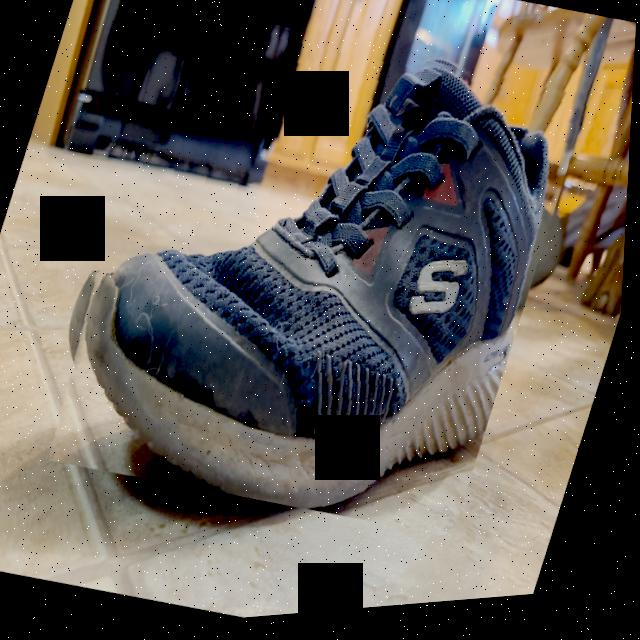shoe: (26, 0, 599, 572)
